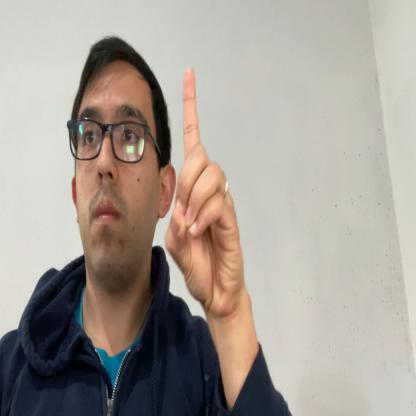D: (165, 66, 243, 318)
